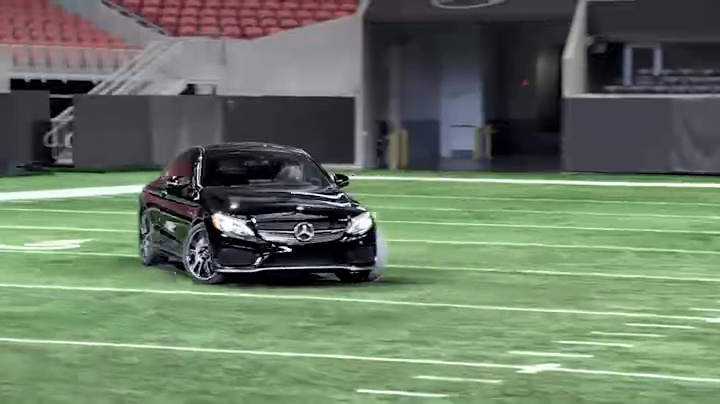amg: (137, 140, 386, 286)
